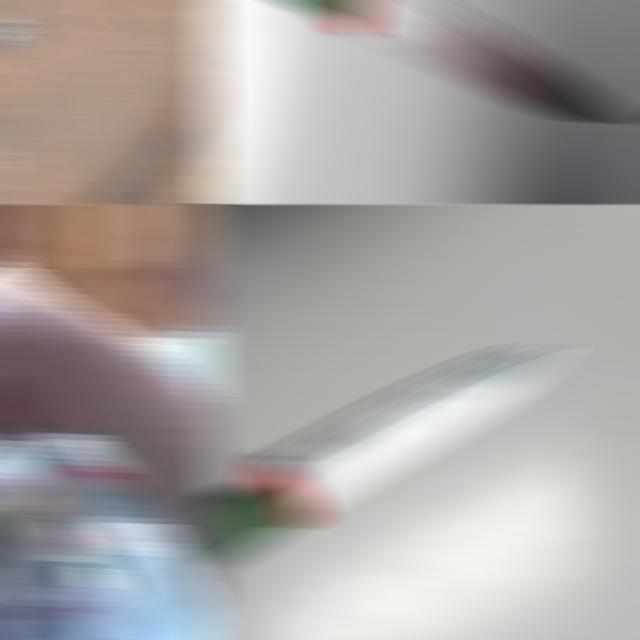Knife: (202, 343, 567, 570), (277, 0, 629, 123)
Knife_Handle: (0, 213, 146, 597)
